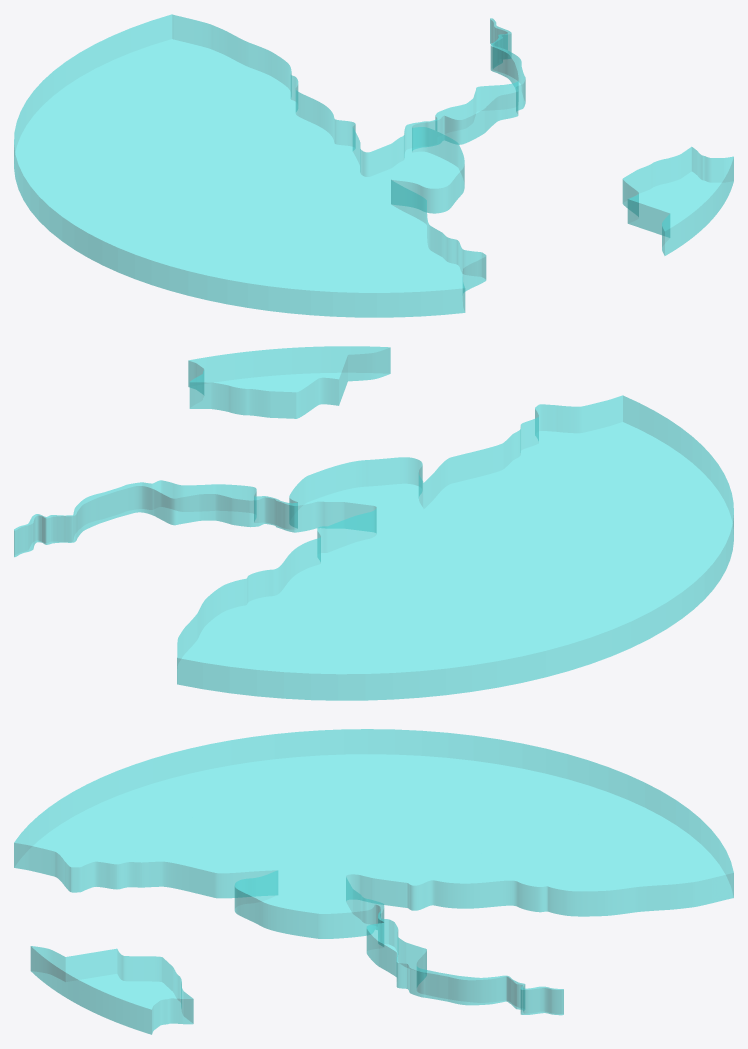
Rendered from Sea-Basicglb.glb.
The picture shows the model from 3 angles, top to bottom: view 1: azimuth 30°, elevation 25°; view 2: azimuth 150°, elevation 25°; view 3: azimuth 270°, elevation 25°; orthographic projection. The views are drawn at different scales.
Visible parts, largest first — view 1: Sea; view 2: Sea; view 3: Sea.
Boxes of the visible parts, x1,y1,x2,y2 form: Sea: (14,14,733,317); Sea: (14,346,733,700); Sea: (14,729,733,1034).
Bounding box in the file's own units: 15816 × 660 × 17144.
